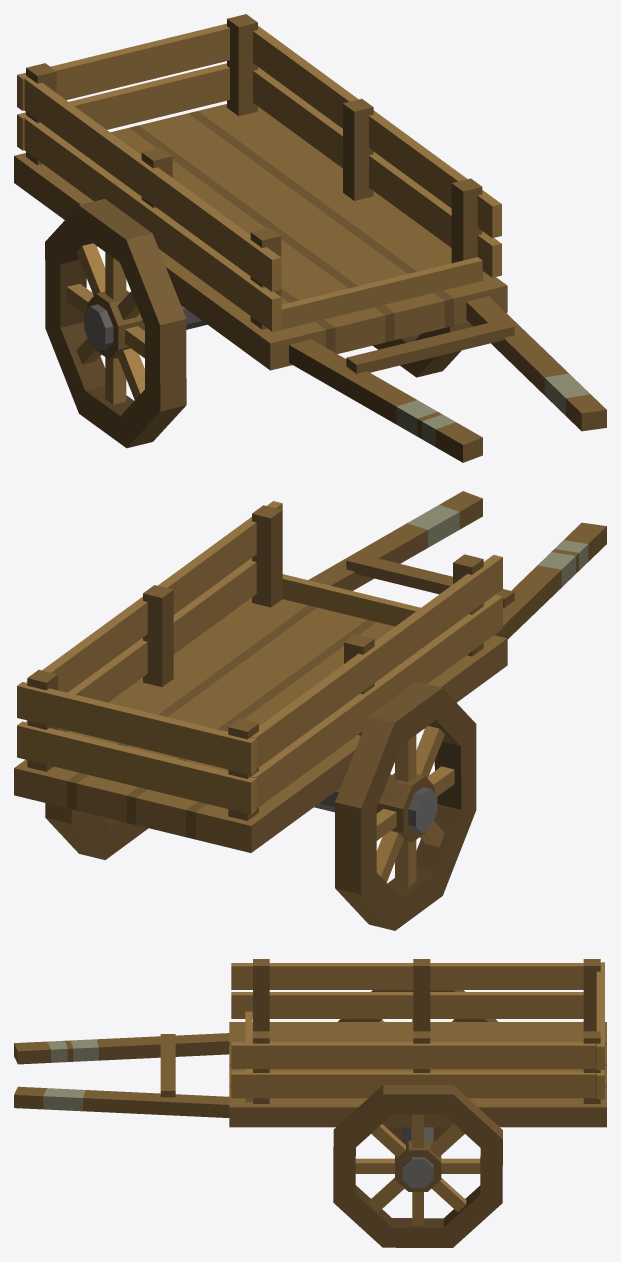
File: Cart.gltf
3 renders of one model, top to bottom at view 1: azimuth 30°, elevation 25°; view 2: azimuth 150°, elevation 25°; view 3: azimuth 270°, elevation 25°, orthographic. The views are drawn at different scales.
Visible parts, largest first — view 1: SF_Veh_Cart_01, SF_Veh_Cart_Wheel_01, SF_Veh_Cart_Wheel_02; view 2: SF_Veh_Cart_01, SF_Veh_Cart_Wheel_01, SF_Veh_Cart_Wheel_02; view 3: SF_Veh_Cart_01, SF_Veh_Cart_Wheel_02, SF_Veh_Cart_Wheel_01.
Boxes of the visible parts, x1,y1,x2,y2 form: SF_Veh_Cart_01: (14,14,606,462); SF_Veh_Cart_Wheel_01: (45,199,186,448); SF_Veh_Cart_Wheel_02: (373,322,472,377); SF_Veh_Cart_01: (14,491,606,852); SF_Veh_Cart_Wheel_01: (335,681,476,930); SF_Veh_Cart_Wheel_02: (45,803,148,859); SF_Veh_Cart_01: (14,959,606,1188); SF_Veh_Cart_Wheel_02: (333,1085,502,1247); SF_Veh_Cart_Wheel_01: (338,990,497,1141).
Bounding box in the file's own units: 0.0355 × 0.0267 × 0.0745.
1 material, 1 textured.
